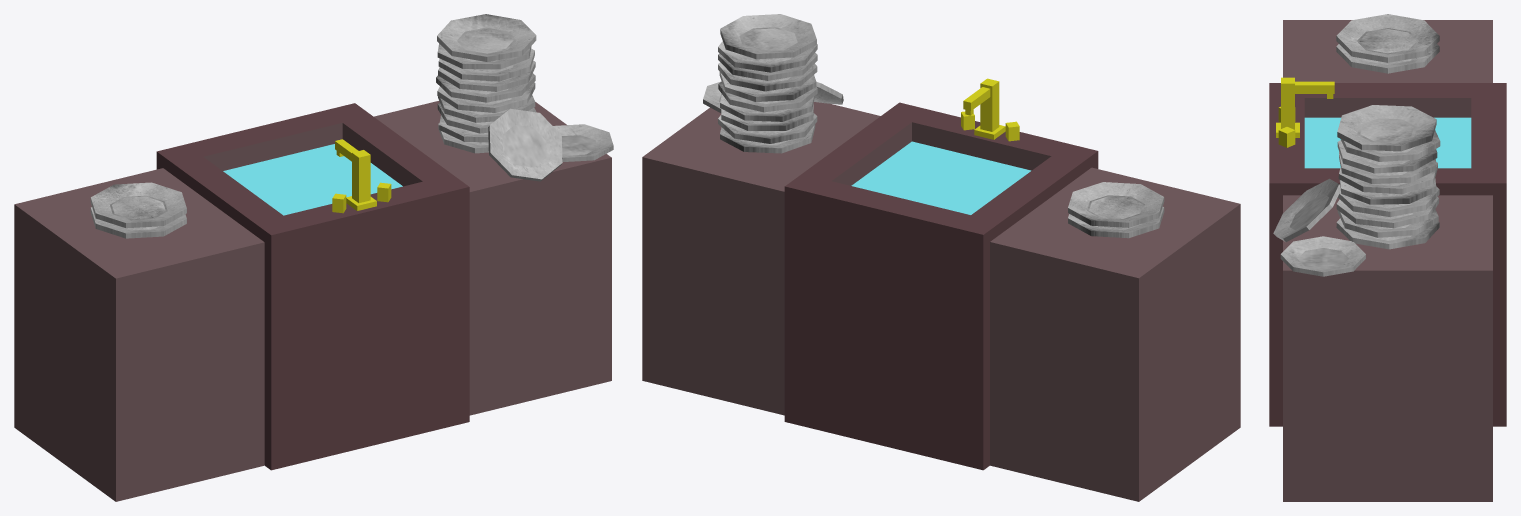
The model's file is Dishes.fbx.
The picture shows the model from 3 angles, left to right: view 1: azimuth 30°, elevation 25°; view 2: azimuth 150°, elevation 25°; view 3: azimuth 270°, elevation 25°; orthographic projection. The views are drawn at different scales.
Visible parts, largest first — view 1: Dishes; view 2: Dishes; view 3: Dishes.
Boxes of the visible parts, box(x1,y1,x2,y2) form: Dishes: box(14, 14, 613, 501); Dishes: box(642, 14, 1240, 501); Dishes: box(1269, 14, 1506, 501).
Size of the model in its own units: 5.17 by 3.15 by 2.
